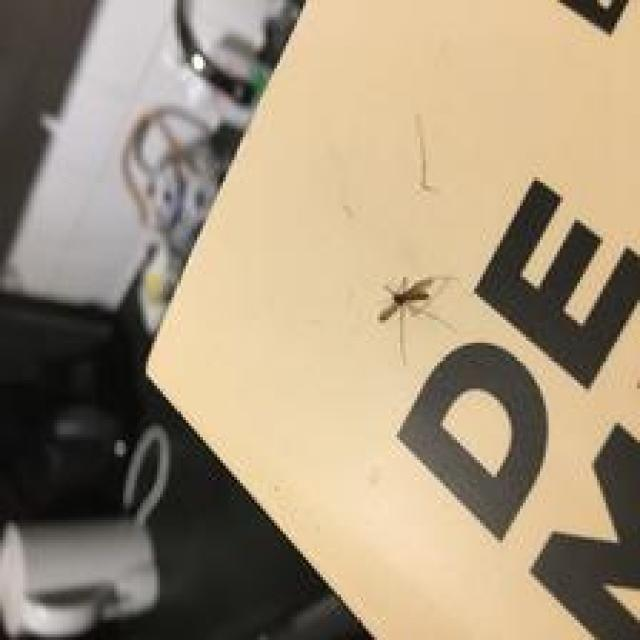Culex: (376, 273, 456, 364)
